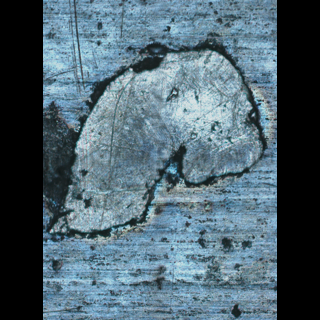d: (47, 40, 267, 242)
